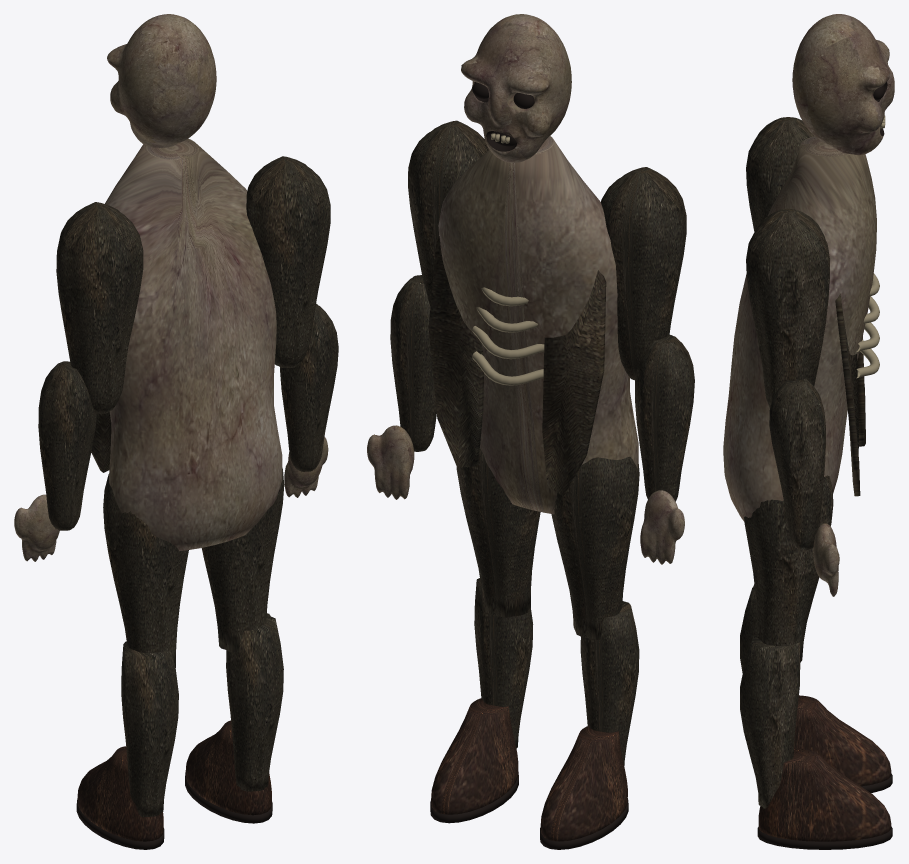
Rendered from shambler.glb.
3 views of the same model, side by side, from view 1: azimuth 30°, elevation 25°; view 2: azimuth 150°, elevation 25°; view 3: azimuth 270°, elevation 25° (orthographic).
Parts seen in each view (by area): view 1: Continuous torso, Rounded sloping deltoid, Rounded sloping deltoid.001, Gaunt unified face, Thigh, Calf, Calf.001, Forearm, Thigh.001, Forearm.001, Boot, Boot.001 (+5 smaller); view 2: Continuous torso, body_Decayed charcoal coat.001, Rounded sloping deltoid, Gaunt unified face, Thigh, Thigh.001, Forearm, Boot, Boot.001, Rounded sloping deltoid.001, Forearm.001, Calf (+7 smaller); view 3: Continuous torso, Rounded sloping deltoid.001, Gaunt unified face, Boot.001, Thigh.001, Calf.001, Forearm.001, Boot, Rounded sloping deltoid, body_Decayed charcoal coat.001, Sculpted hand.001, Layered sole.001 (+2 smaller).
Boxes of the visible parts, <box> form: Continuous torso: <box>105,138,282,551</box>; Rounded sloping deltoid: <box>56,202,143,413</box>; Rounded sloping deltoid.001: <box>246,156,330,367</box>; Gaunt unified face: <box>107,14,216,147</box>; Thigh: <box>103,473,188,667</box>; Calf: <box>121,641,178,817</box>; Calf.001: <box>226,613,283,791</box>; Forearm: <box>38,361,96,530</box>; Thigh.001: <box>201,468,284,653</box>; Forearm.001: <box>280,303,338,471</box>; Boot: <box>77,746,163,841</box>; Boot.001: <box>185,720,271,815</box>; Continuous torso: <box>438,136,638,514</box>; body_Decayed charcoal coat.001: <box>428,236,606,495</box>; Rounded sloping deltoid: <box>601,167,686,380</box>; Gaunt unified face: <box>461,14,571,162</box>; Thigh: <box>551,456,639,639</box>; Thigh.001: <box>456,448,540,617</box>; Forearm: <box>635,334,694,501</box>; Boot: <box>540,725,627,841</box>; Boot.001: <box>431,698,518,814</box>; Rounded sloping deltoid.001: <box>408,120,489,305</box>; Forearm.001: <box>390,275,436,451</box>; Calf: <box>580,601,639,765</box>; Continuous torso: <box>723,136,876,521</box>; Rounded sloping deltoid.001: <box>746,208,829,407</box>; Gaunt unified face: <box>792,14,894,155</box>; Boot.001: <box>758,748,891,841</box>; Thigh.001: <box>744,475,833,662</box>; Calf.001: <box>740,633,800,808</box>; Forearm.001: <box>769,378,825,549</box>; Boot: <box>794,695,891,786</box>; Rounded sloping deltoid: <box>746,117,814,231</box>; body_Decayed charcoal coat.001: <box>835,293,865,496</box>; Sculpted hand.001: <box>813,523,839,596</box>; Layered sole.001: <box>757,826,892,849</box>.
Bounding box in the file's own units: 0.75 × 1.81 × 0.3557.
6 materials, 4 textured.
